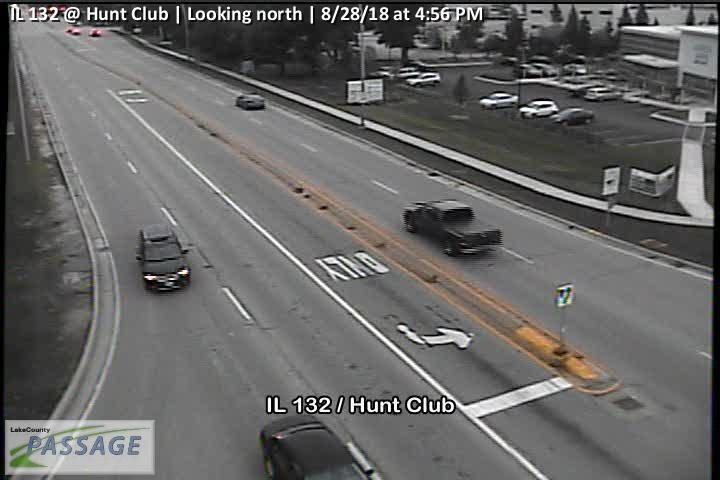SUV: (136, 223, 191, 293), (406, 70, 441, 88), (585, 86, 617, 102), (370, 67, 396, 77), (396, 67, 419, 78)
Sedan: (550, 106, 594, 127), (518, 98, 559, 119), (479, 91, 519, 107), (237, 93, 264, 109)
Truck: (403, 199, 503, 256)
